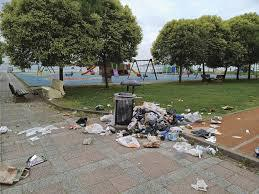Container: (112, 93, 135, 130)
Garbage: (134, 105, 182, 147), (0, 165, 36, 186), (180, 140, 208, 158), (114, 134, 147, 148), (195, 126, 221, 143), (26, 156, 51, 170), (69, 117, 87, 136), (147, 133, 165, 151), (194, 176, 212, 192), (86, 127, 106, 140), (0, 123, 13, 138), (186, 110, 199, 124), (82, 136, 96, 147), (127, 119, 139, 131), (142, 98, 153, 111), (234, 133, 246, 143), (212, 119, 221, 132), (207, 147, 216, 158), (102, 113, 110, 121), (246, 125, 252, 132)
